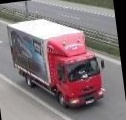truck: (6, 9, 110, 113)
